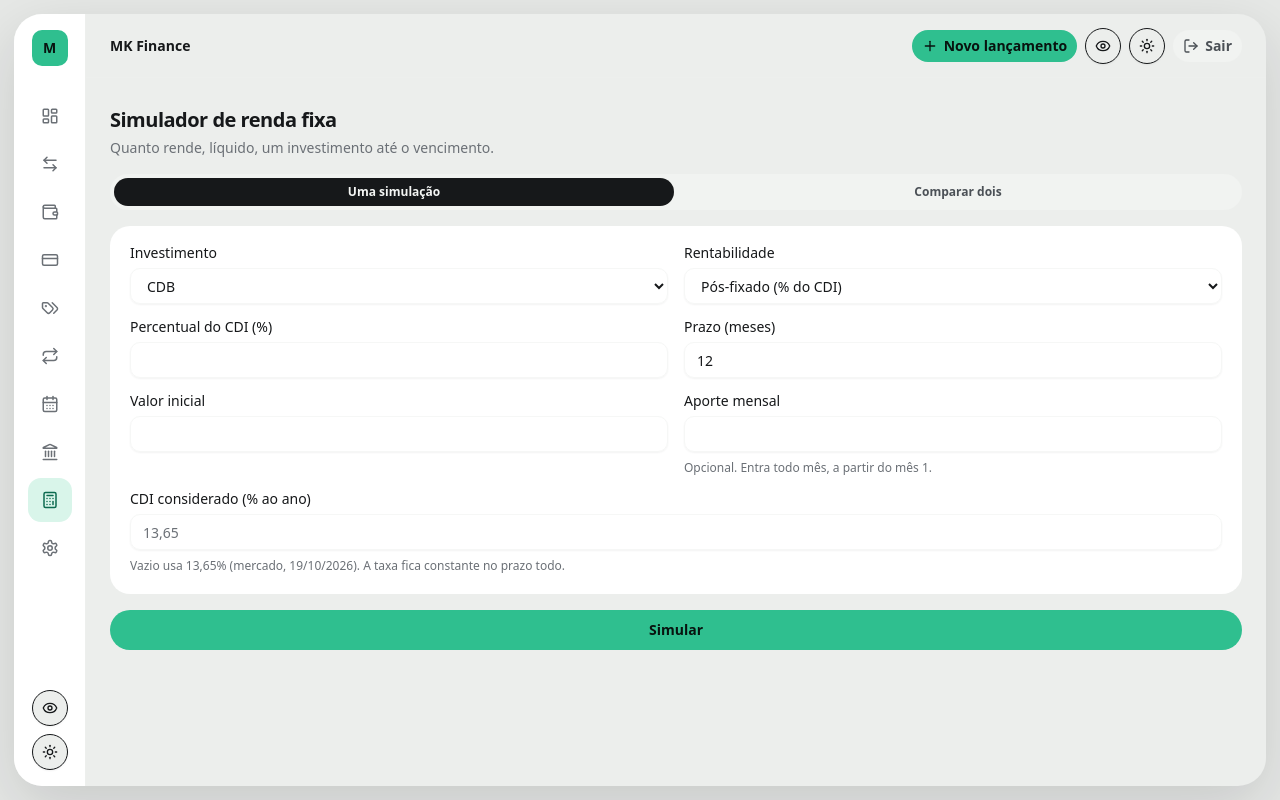
Scenario: SimulatorPage › blocks the request and points at the fields when the form is incomplete
Click the button "Simular".
click(676, 630)  # box top-left (110, 610), bottom-right (1242, 650)
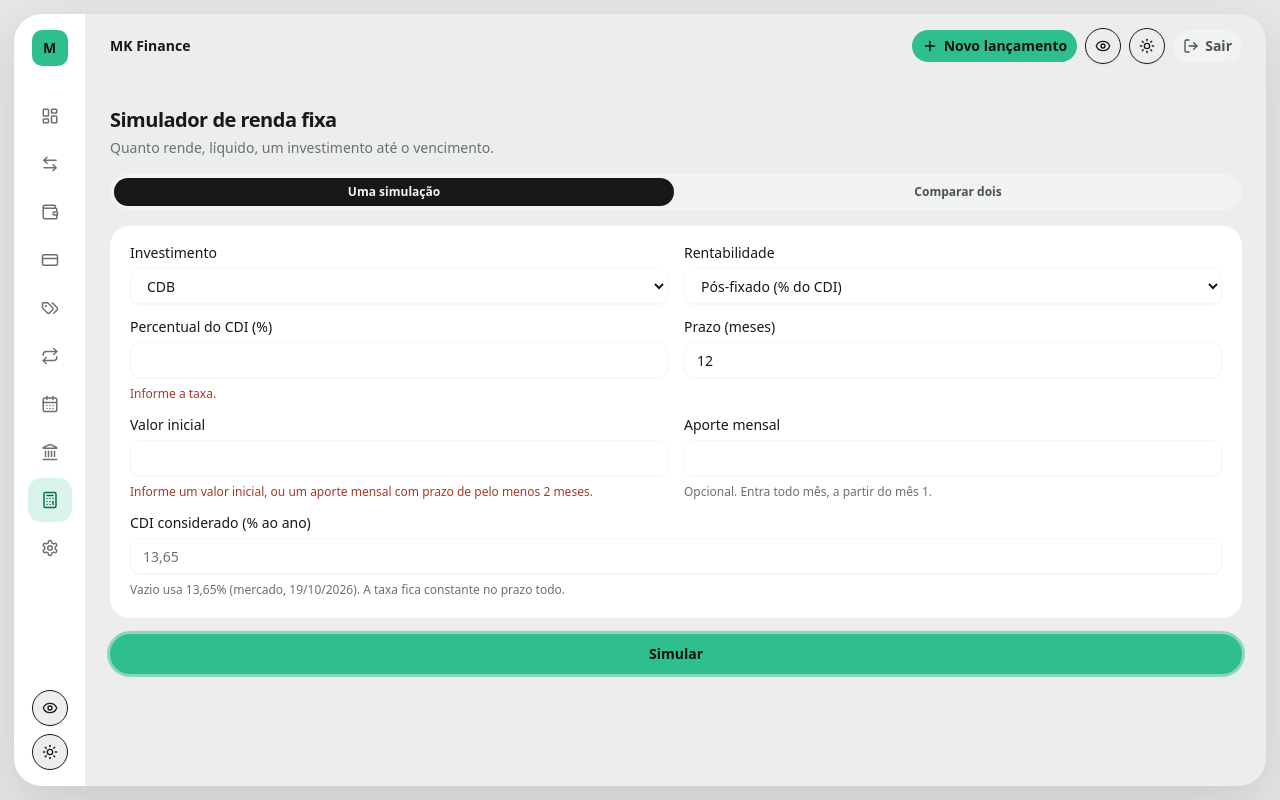
Now the text "Informe a taxa." is shown, box top-left (130, 385), bottom-right (216, 402)
Now the text "Informe um valor inicial, ou um aporte mensal com prazo de pelo menos 2 meses." is shown, box top-left (130, 484), bottom-right (668, 500)
